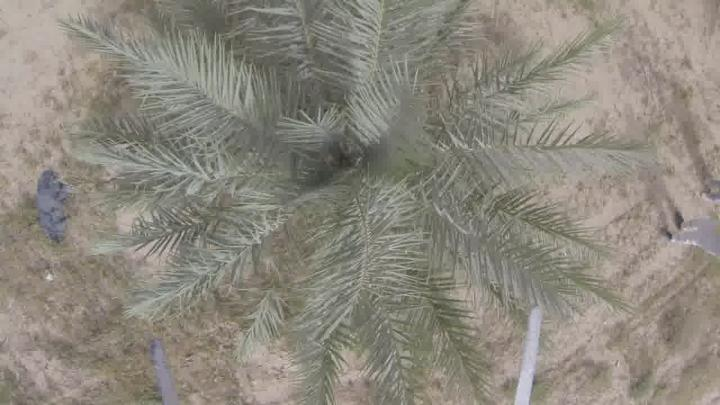Date-Palm-Crown: (178, 32, 476, 292)
